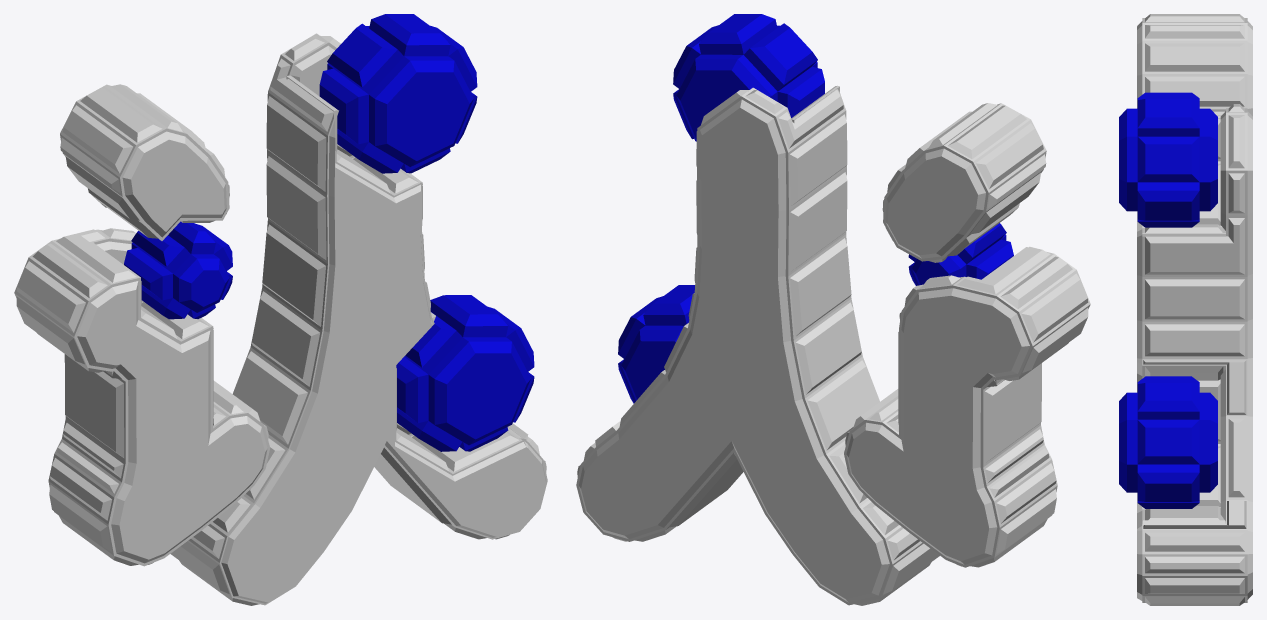
File: Ch_China_认_01.fbx
3 renders of one model, left to right at view 1: azimuth 30°, elevation 25°; view 2: azimuth 150°, elevation 25°; view 3: azimuth 270°, elevation 25°, orthographic. The views are drawn at different scales.
Parts seen in each view (by area): view 1: sphere1; view 2: sphere1; view 3: sphere1.
Part boxes in pixels (x1,y1,x2,y2): sphere1: [14, 14, 547, 605]; sphere1: [576, 14, 1090, 605]; sphere1: [1119, 14, 1252, 605].
Bounding box in the file's own units: 0.9209 × 0.9865 × 0.2541.
